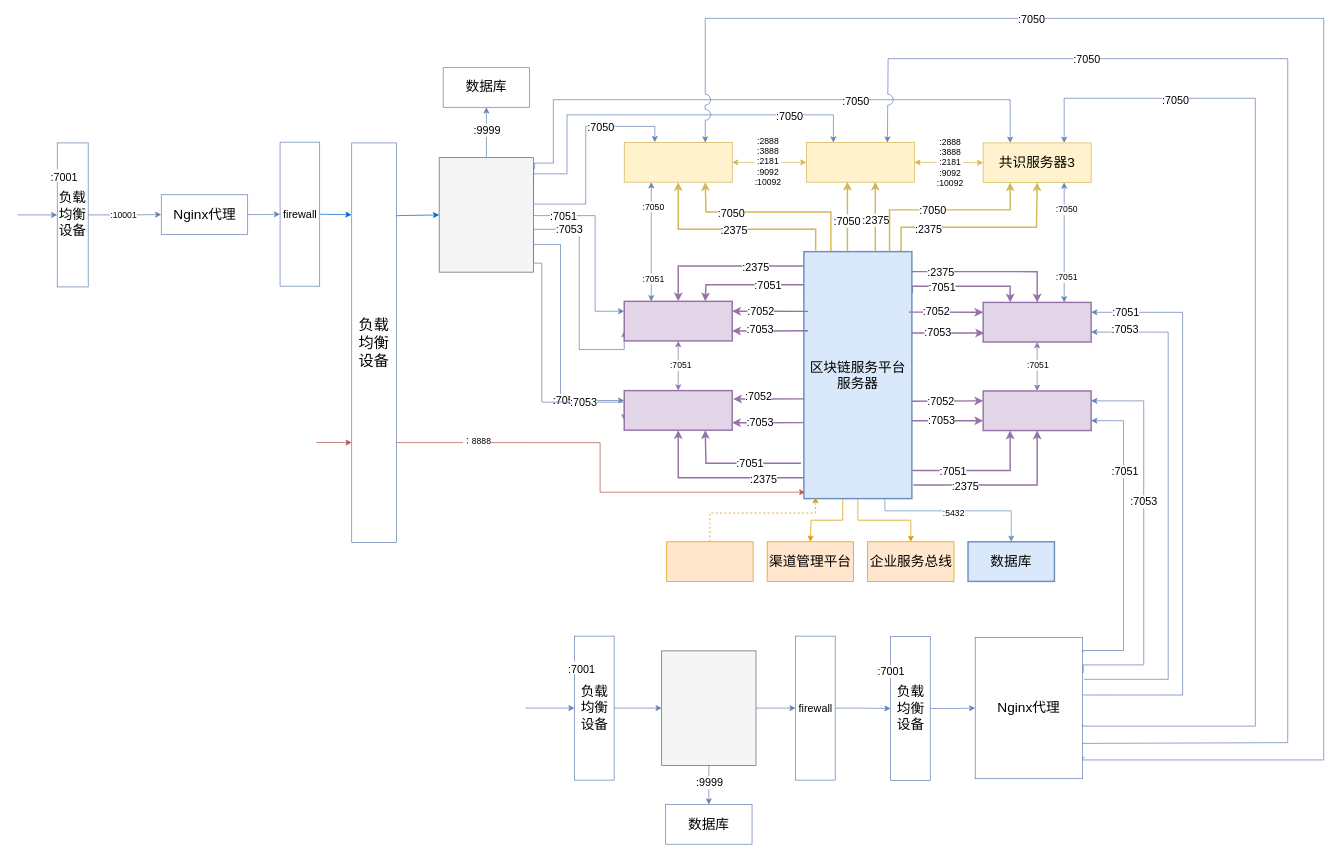
Some shapes in this 1342 by 857 pixel diagram are drawn without their labels. Each missing label, with the box of its shape:
互联网区应用服务器: (438, 157, 534, 272)
企业数据总线: (666, 541, 753, 581)
共识服务器1: (624, 142, 732, 182)
共识服务器2: (806, 142, 914, 182)
核心区应用 服务器: (661, 650, 756, 765)
账本服务器1: (623, 300, 733, 341)
账本服务器2: (623, 390, 733, 431)
账本服务器3: (982, 301, 1092, 342)
账本服务器4: (982, 390, 1092, 431)
